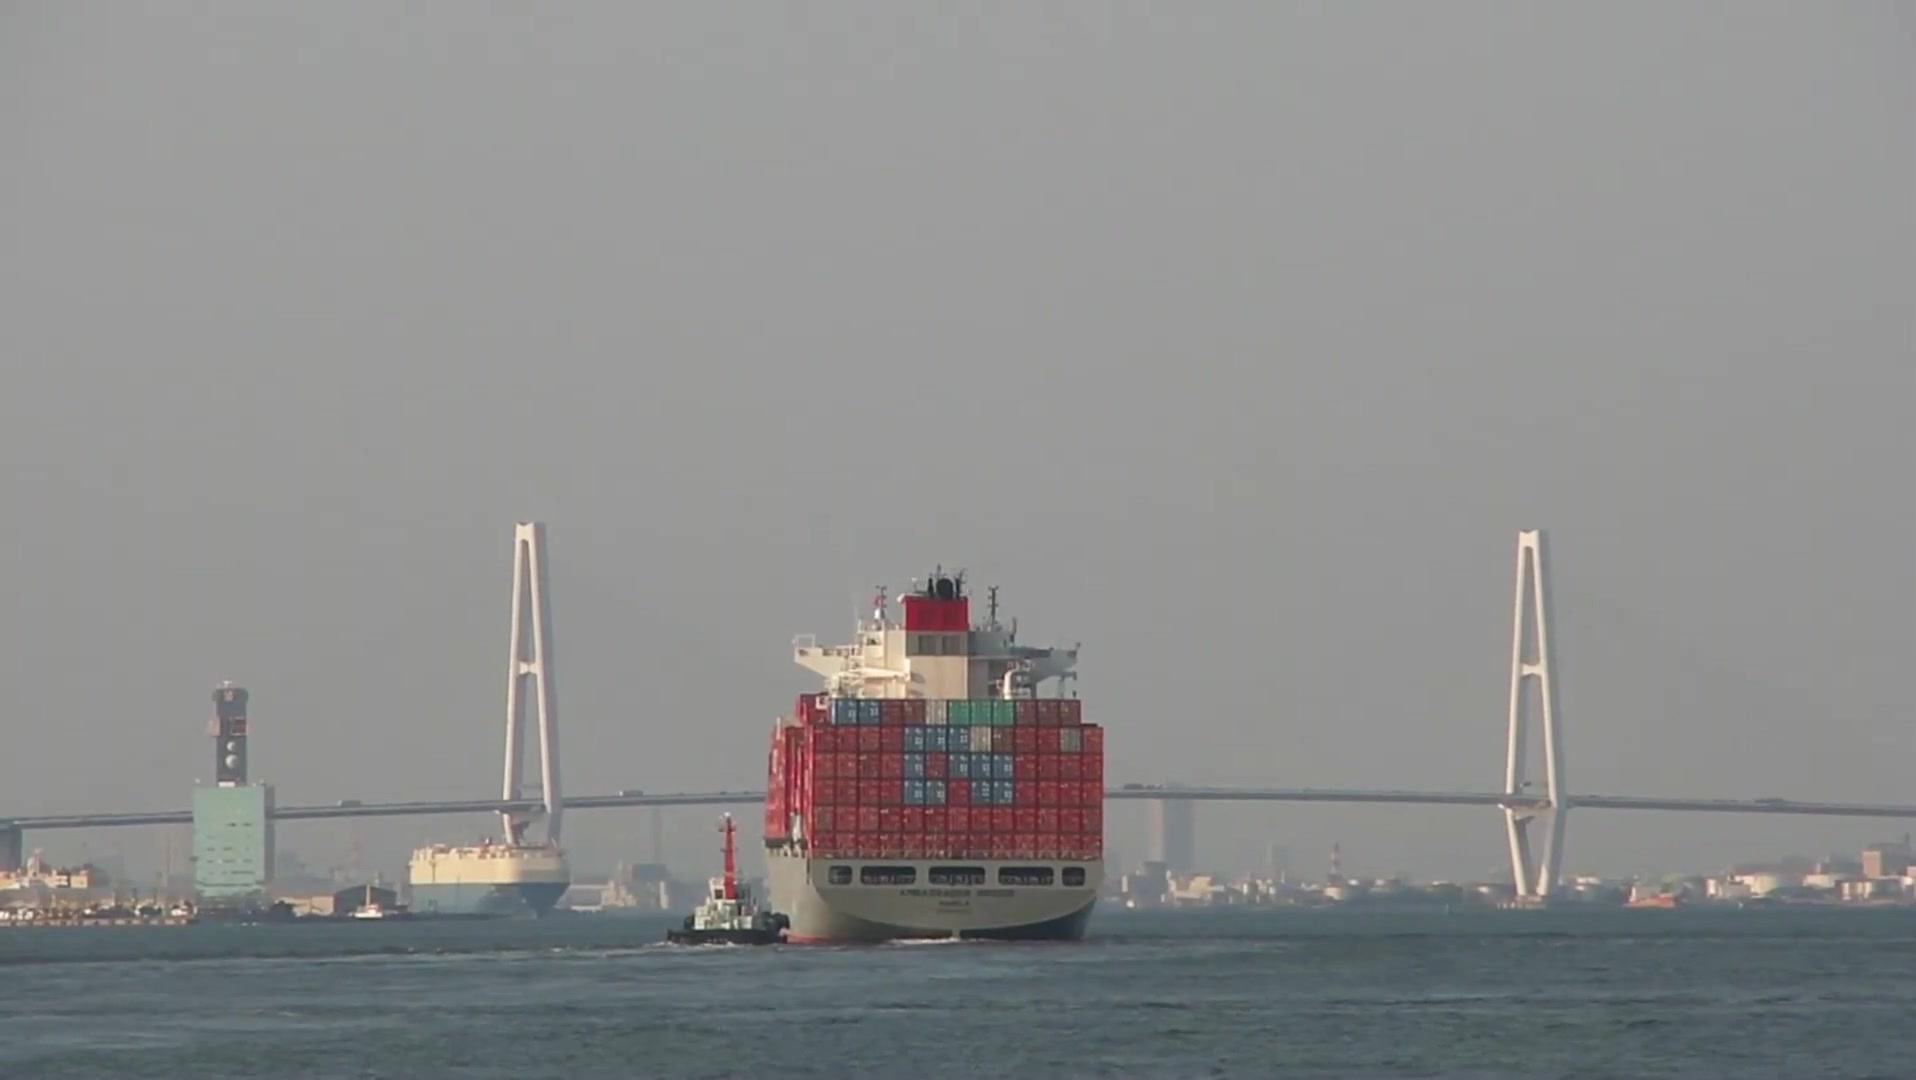boat: (761, 570, 1112, 954), (667, 821, 795, 960), (396, 831, 578, 926), (558, 863, 712, 952)
